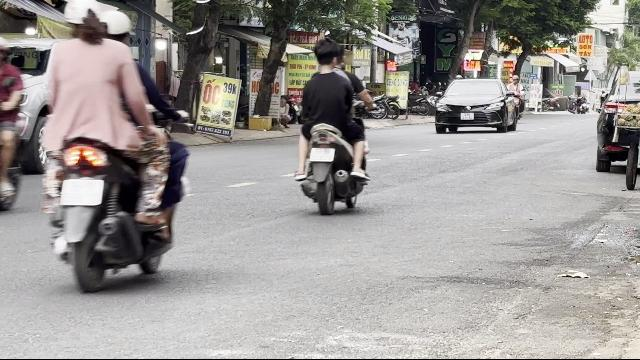helmet: (62, 0, 108, 42), (104, 10, 132, 44)
licenseplate: (60, 178, 102, 206), (309, 147, 333, 161)
motorcyclist: (28, 1, 192, 291), (291, 36, 374, 214)
nohelmet: (311, 38, 343, 70)
